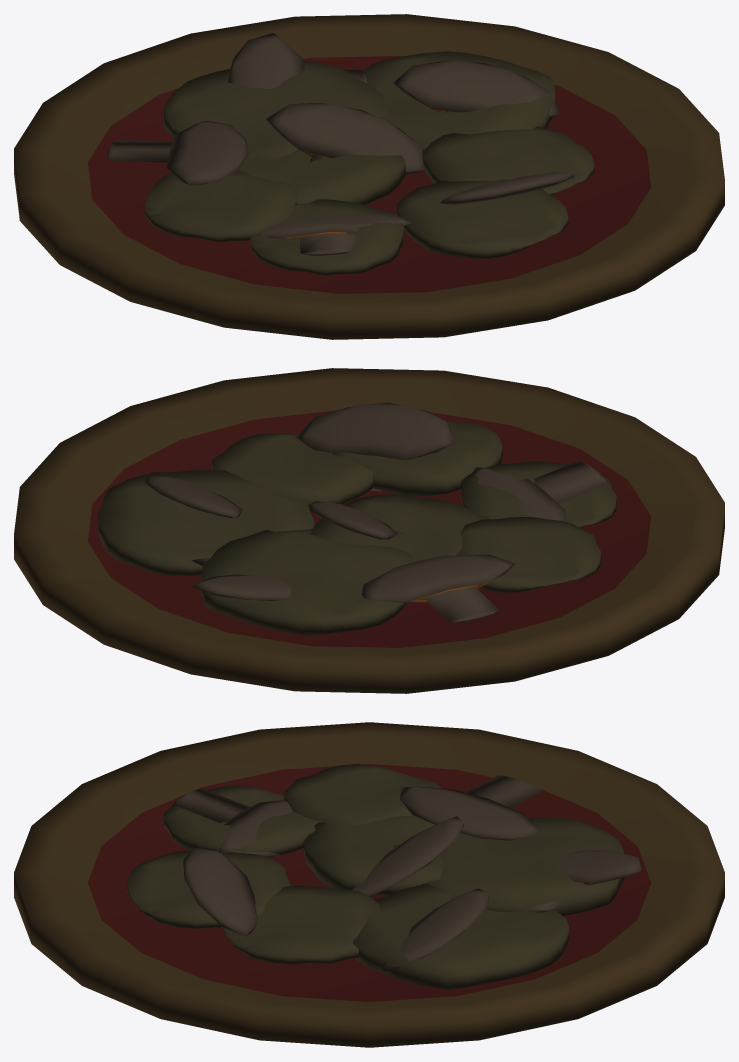
File: BurntPizza(Tomato Cheese and Mushrooms).glb
3 views of the same model, one above another, from view 1: azimuth 30°, elevation 25°; view 2: azimuth 150°, elevation 25°; view 3: azimuth 270°, elevation 25° (orthographic).
Visible parts, largest first — view 1: Icosphere.029; view 2: Icosphere.029; view 3: Icosphere.029.
Part boxes in pixels (bbox=[...]): Icosphere.029: bbox=[14, 14, 724, 339]; Icosphere.029: bbox=[14, 368, 724, 693]; Icosphere.029: bbox=[14, 722, 724, 1047].
Size of the model in its own units: 0.8833 by 0.0807 by 0.8833.
